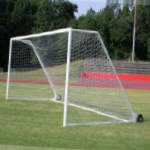goals: (5, 26, 134, 127)
